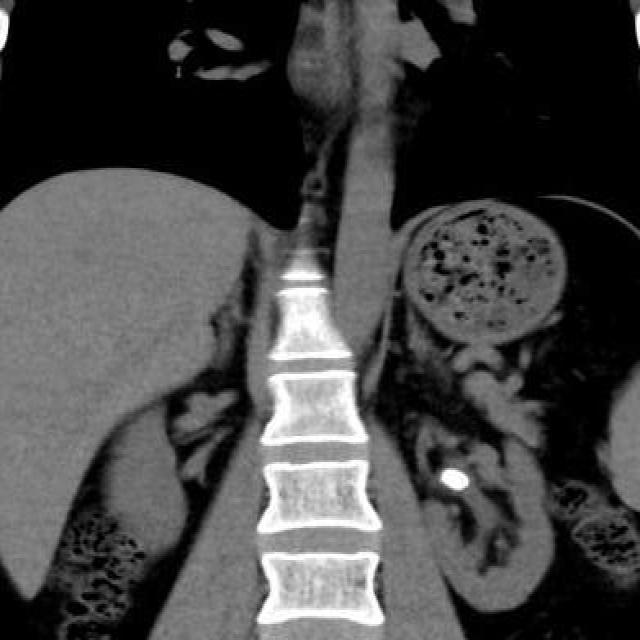Tas_Var: (440, 464, 470, 492)
